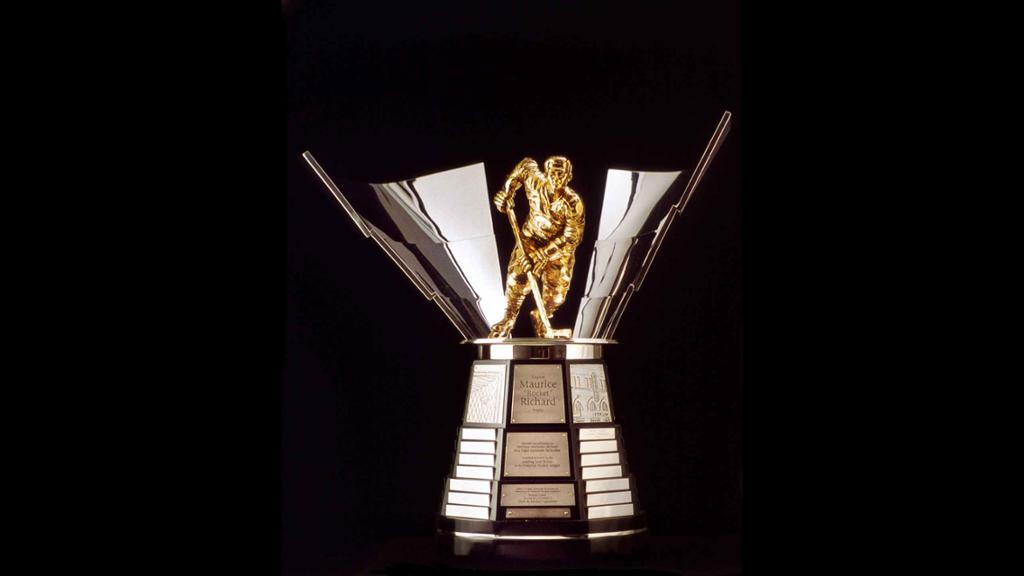trophy: (282, 104, 751, 555)
